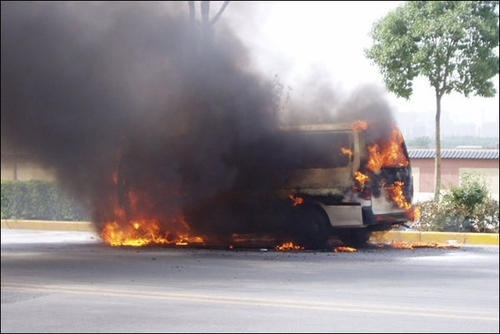fire: (341, 119, 419, 219), (96, 183, 207, 250), (275, 238, 303, 252), (333, 242, 357, 254)
